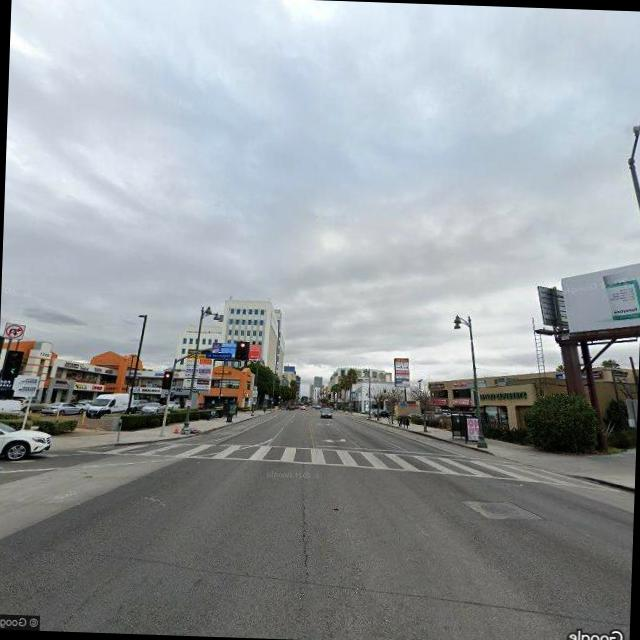pothole: (294, 498, 317, 583)
